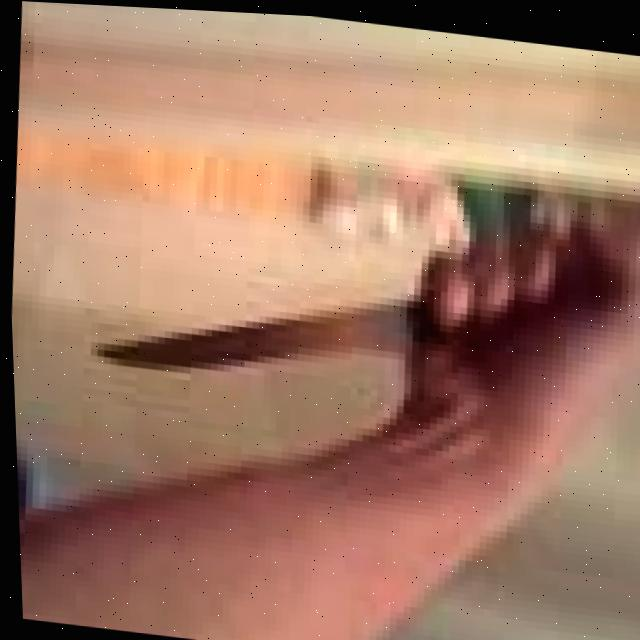knife: (77, 253, 432, 401)
